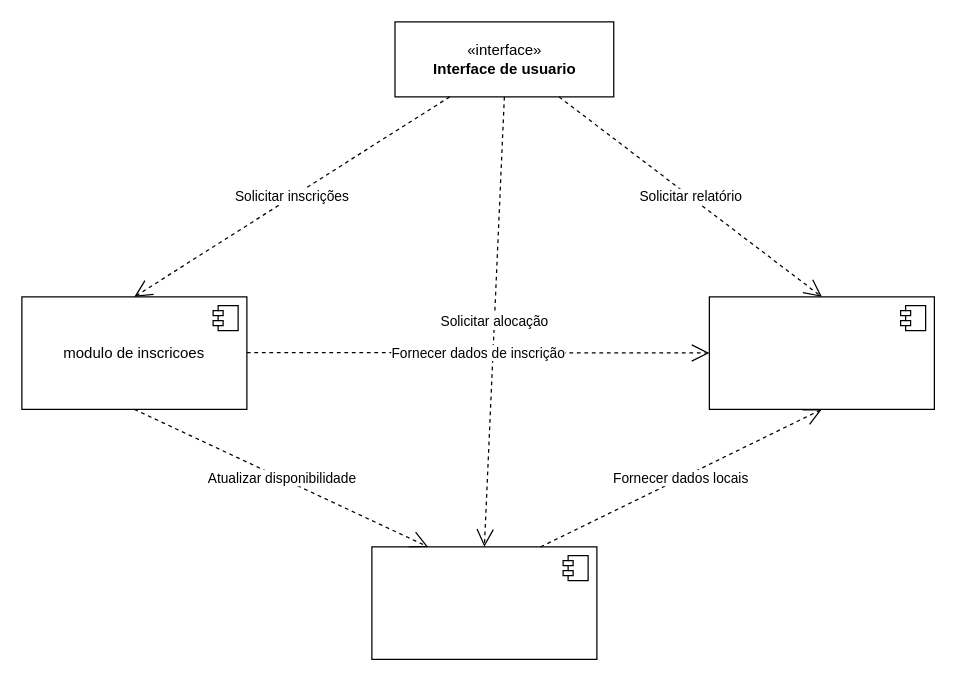
This 956x681 diagram has some shape labels left out. Here are the shapes that lost their labels. From the top down, the centre of each, then its label:
the point at 821,352: módulo de relatórios
the point at 484,602: modulo de alocacoes
